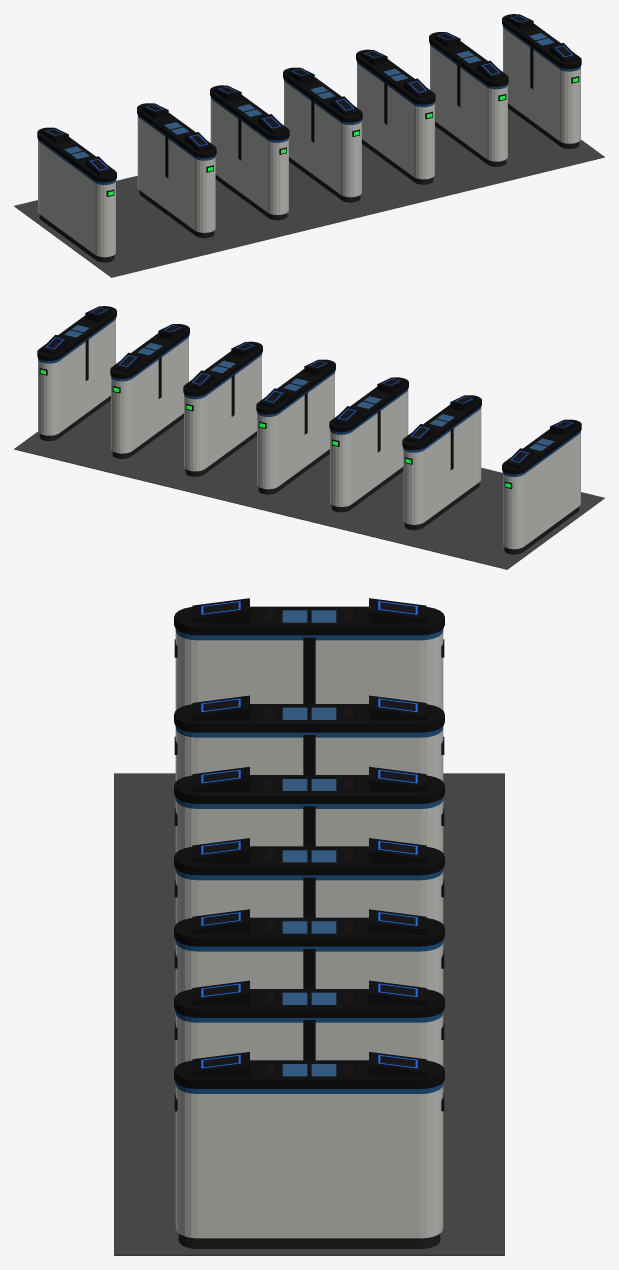
The model's file is gteki_gate_array_6w1.glb.
3 renders of one model, top to bottom at view 1: azimuth 30°, elevation 25°; view 2: azimuth 150°, elevation 25°; view 3: azimuth 270°, elevation 25°, orthographic. The views are drawn at different scales.
Visible parts, largest first — view 1: VIS_body; view 2: VIS_body; view 3: VIS_body.
Part boxes in pixels (x1,y1,x2,y2): VIS_body: [14, 14, 604, 277]; VIS_body: [14, 306, 604, 569]; VIS_body: [114, 598, 504, 1255].
Size of what is drawn, in the model's own units: 5.54 by 0.985 by 1.9.
Materials: 1 (1 with a texture image).
